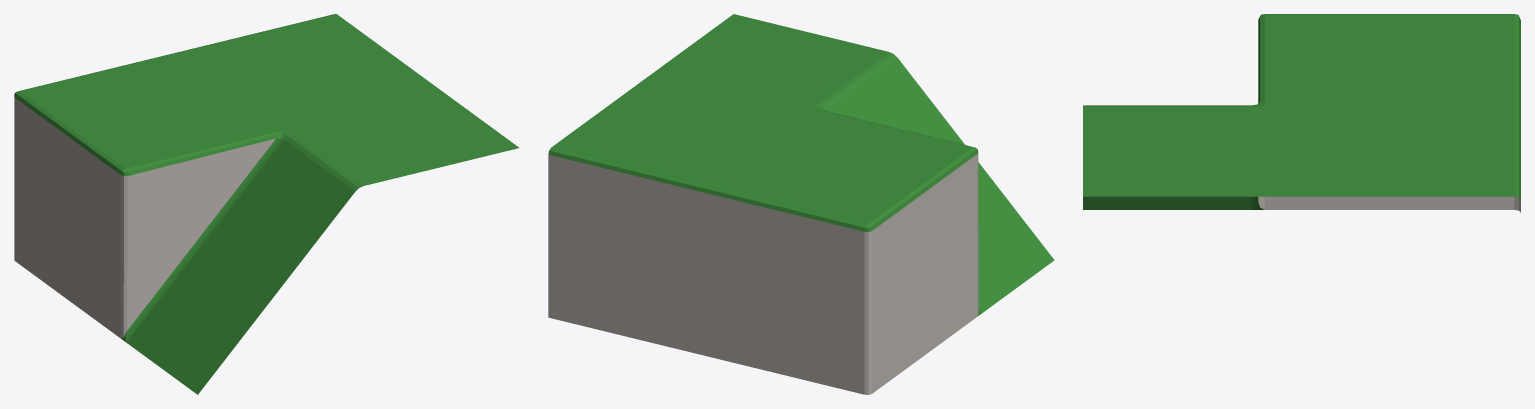
The model's file is cliff_ramp_end_l_2side.fbx.
3 views of the same model, side by side, from view 1: azimuth 30°, elevation 25°; view 2: azimuth 150°, elevation 25°; view 3: azimuth 270°, elevation 25° (orthographic). The views are drawn at different scales.
Parts seen in each view (by area): view 1: Cliff_Stair1; view 2: Cliff_Stair1; view 3: Cliff_Stair1.
Boxes of the visible parts, x1,y1,x2,y2 form: Cliff_Stair1: (14, 14, 519, 394); Cliff_Stair1: (548, 14, 1054, 394); Cliff_Stair1: (1083, 14, 1520, 212).
Size of the model in its own units: 200 by 100 by 200.
